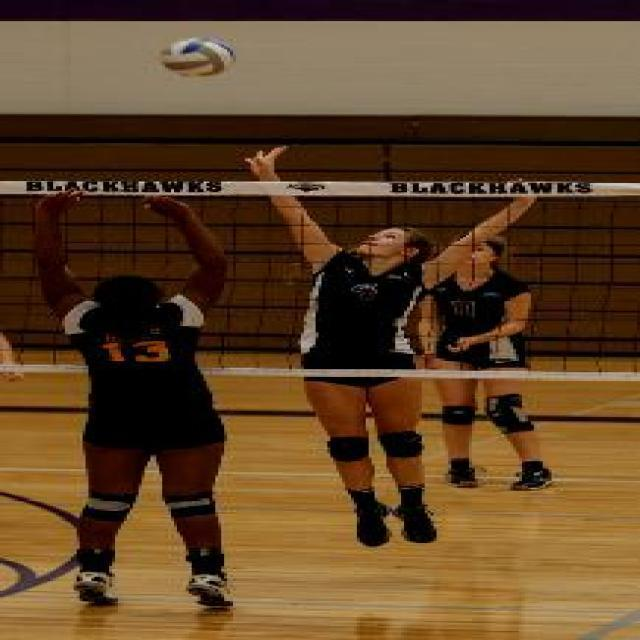volleyball: (160, 37, 234, 80)
